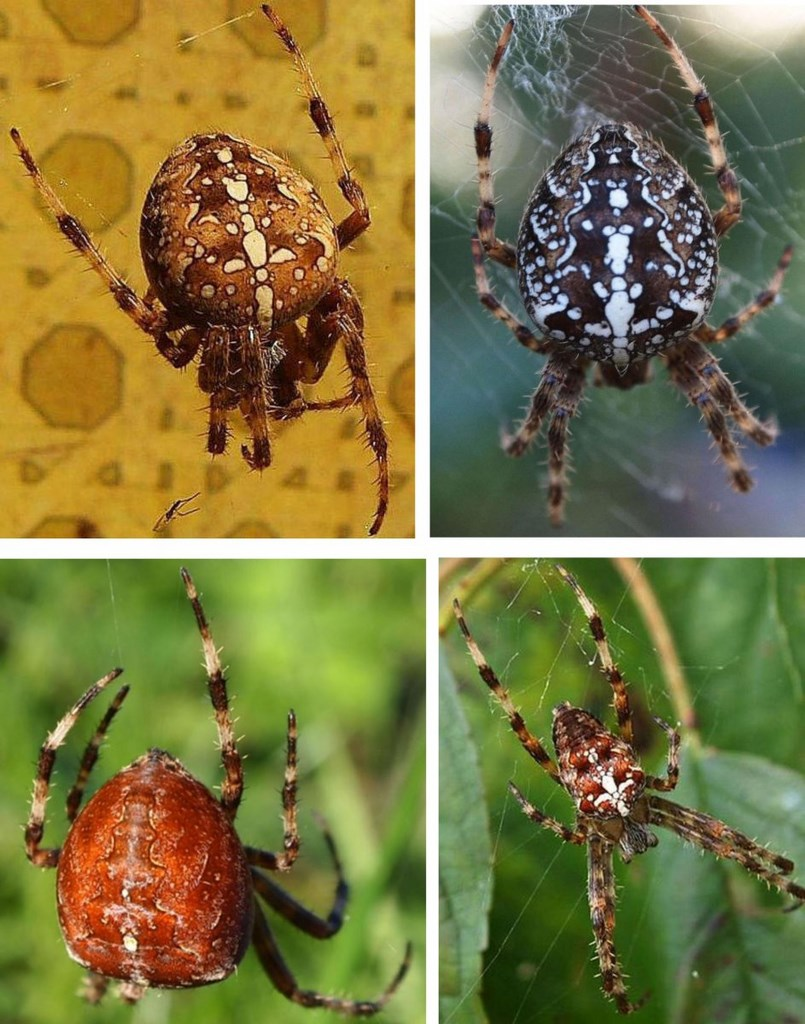spider: (7, 2, 410, 535), (435, 5, 798, 517), (12, 566, 417, 1024), (446, 566, 805, 1020)
